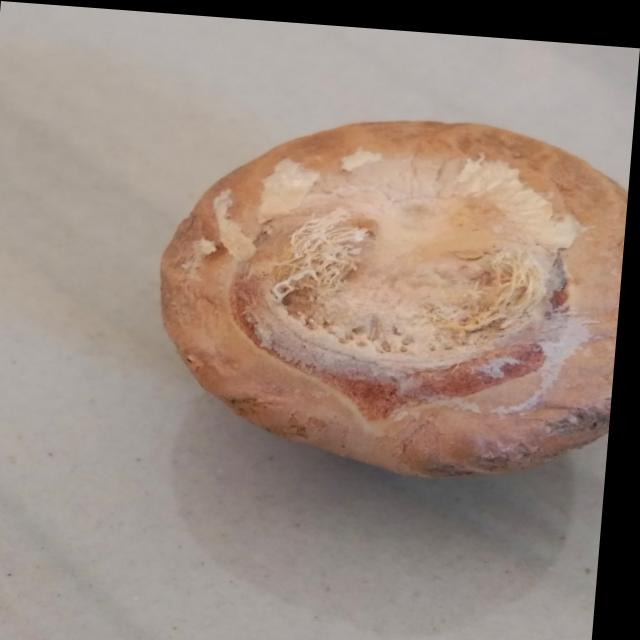phatora: (147, 94, 635, 479)
